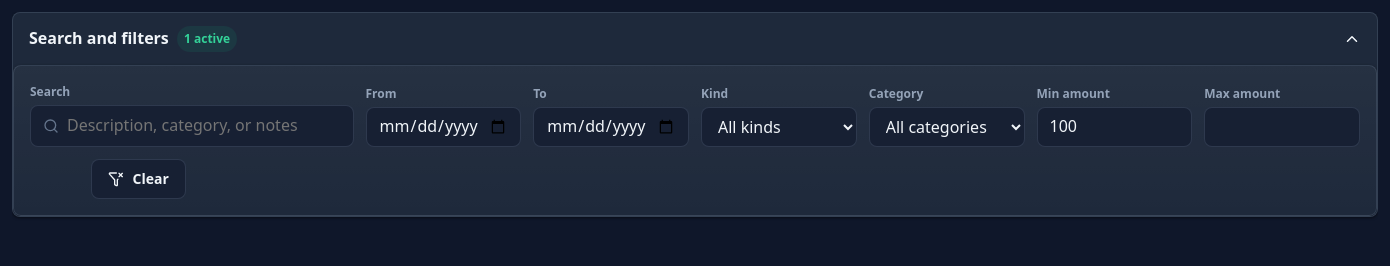
TransactionFilters › clears raw amount drafts alongside the committed filter reset
Type "50" into the number field labelled "Max amount" at point(1282, 127), box [1204,107,1360,147]
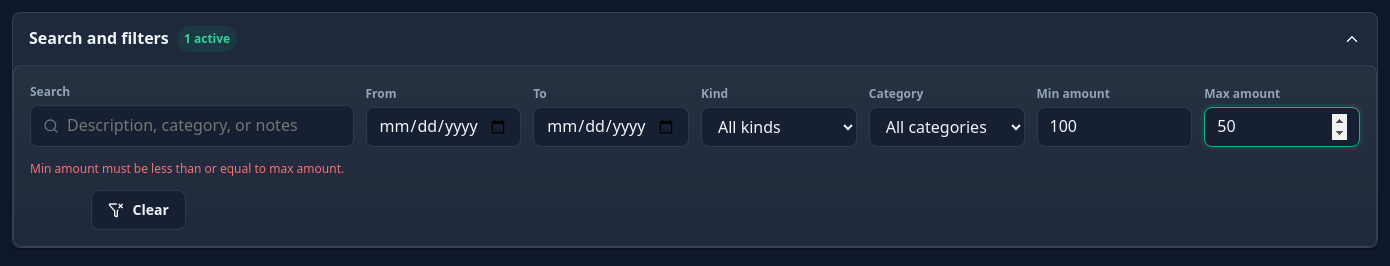
Now the message "Min amount must be less than or equal to max amount." is shown, box [30,160,344,177]
Click the button "Clear" at point(139, 210), box [92,190,186,230]
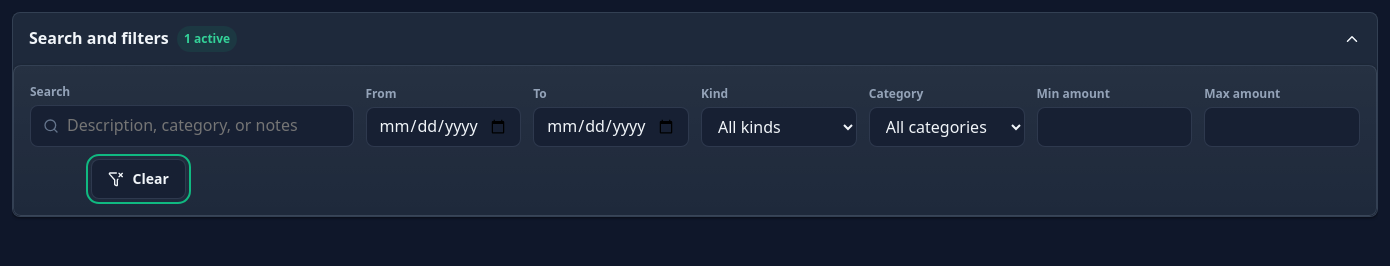
Now the number field labelled "Min amount" is not empty, box [1036,107,1192,147]
Now the number field labelled "Max amount" is not empty, box [1204,107,1360,147]
